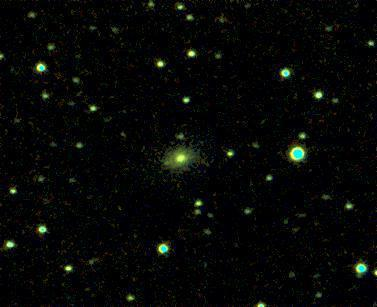star: (151, 153, 181, 183)
